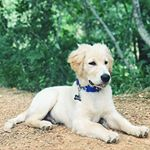puppy: (3, 41, 150, 146)
